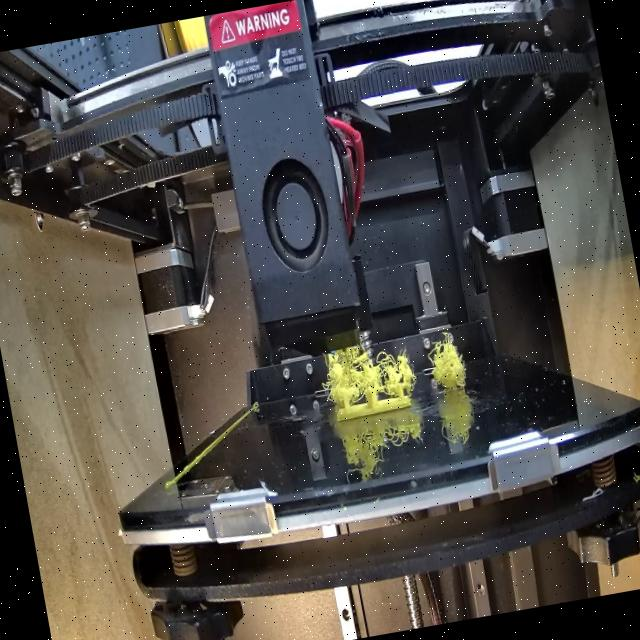spaghetti: (318, 328, 415, 411), (422, 326, 472, 396)
